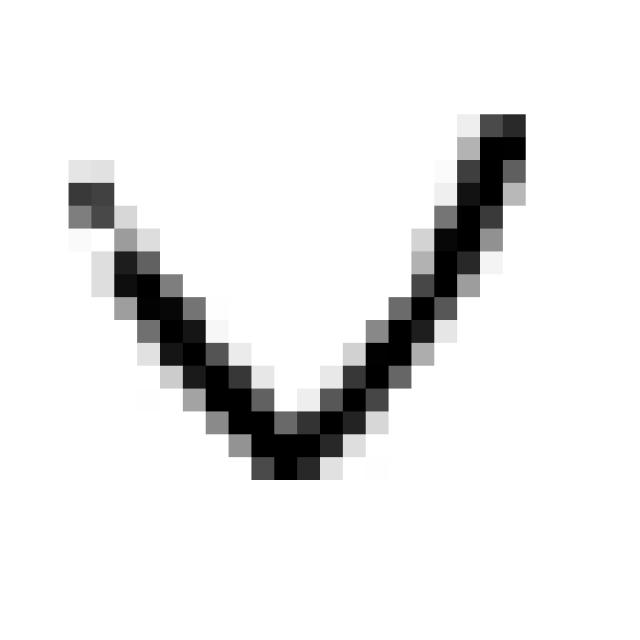7 -seven-: (50, 96, 545, 496)
